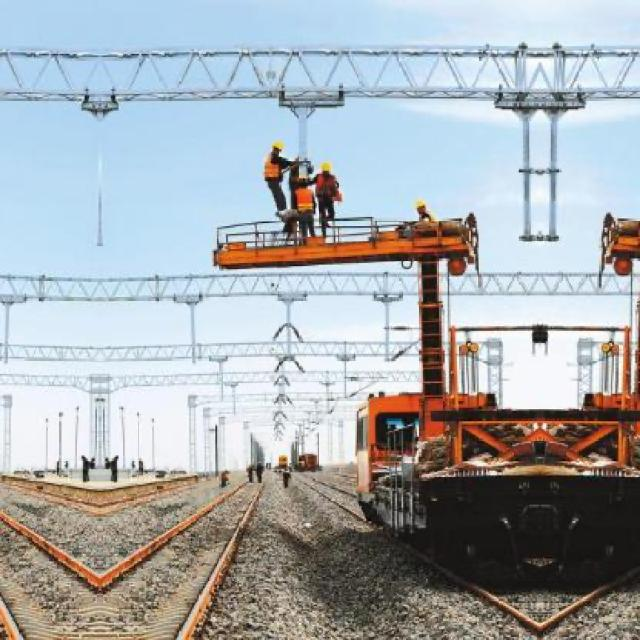con casco: (263, 132, 301, 162), (327, 156, 366, 184)
